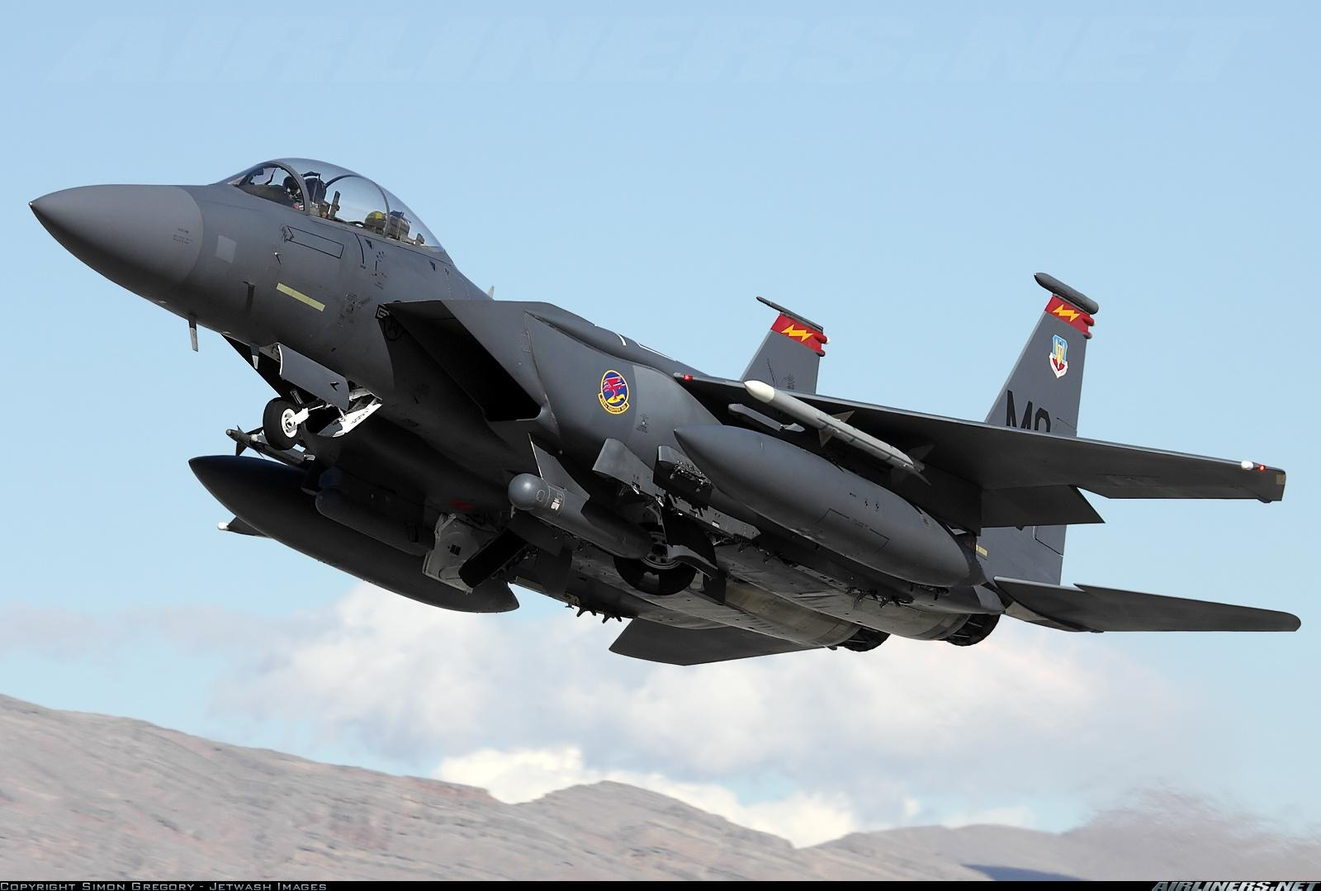aircraft: (37, 159, 1309, 673)
